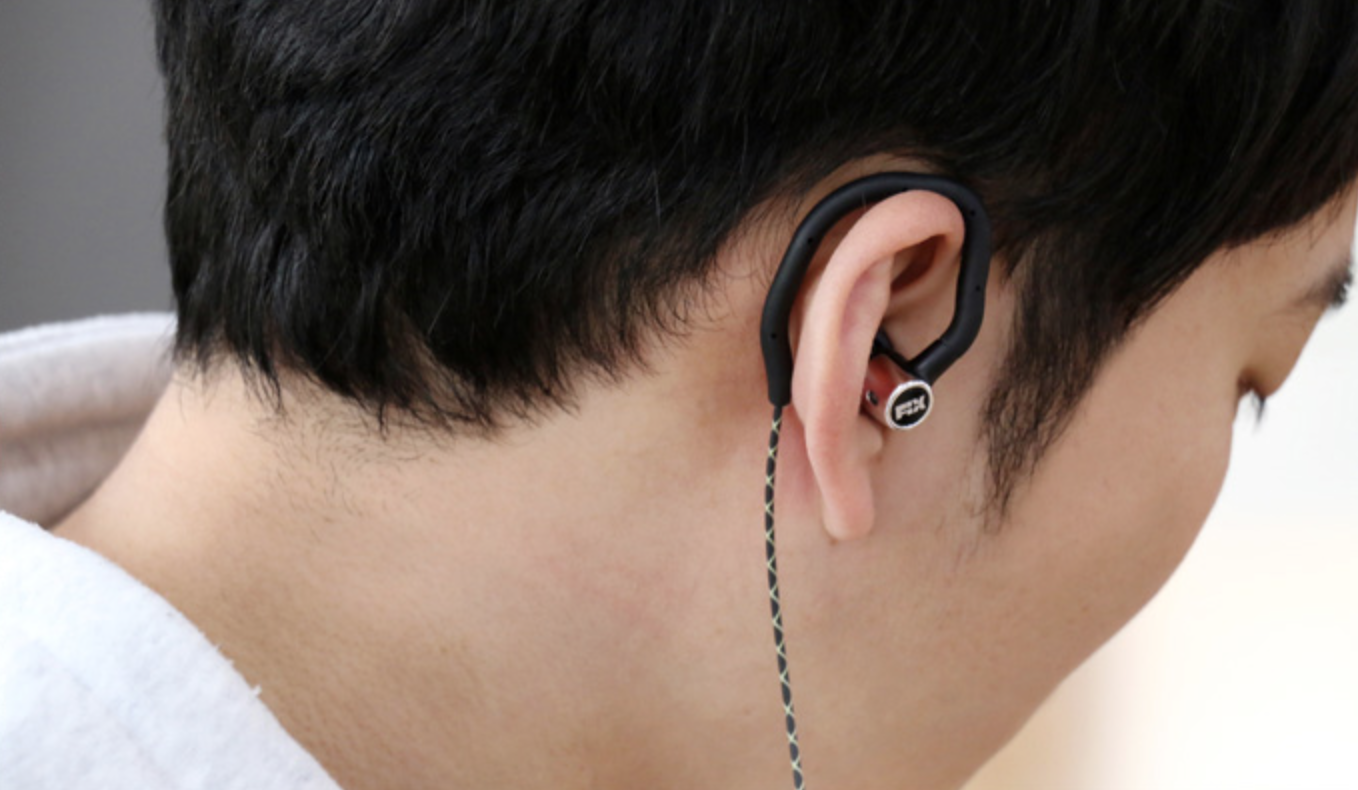earphone: (793, 192, 968, 542)
